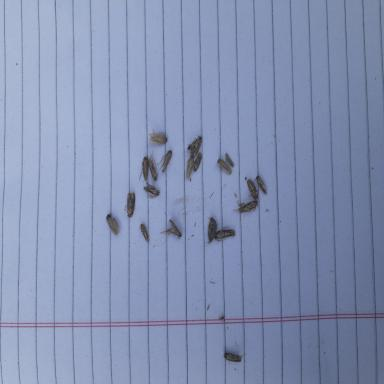pbw: (160, 218, 182, 239), (142, 178, 161, 198), (123, 191, 137, 218), (186, 135, 202, 157), (232, 199, 259, 212), (158, 149, 172, 173), (106, 213, 120, 236), (148, 150, 158, 182), (148, 128, 168, 144), (215, 225, 235, 241), (139, 155, 149, 183), (207, 215, 217, 242), (246, 178, 258, 199), (223, 352, 247, 362), (217, 157, 231, 174), (184, 155, 194, 178), (256, 175, 267, 194), (193, 150, 202, 172), (140, 224, 150, 242), (224, 152, 234, 168)
